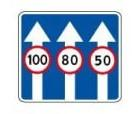road_sign: (16, 9, 123, 104)
